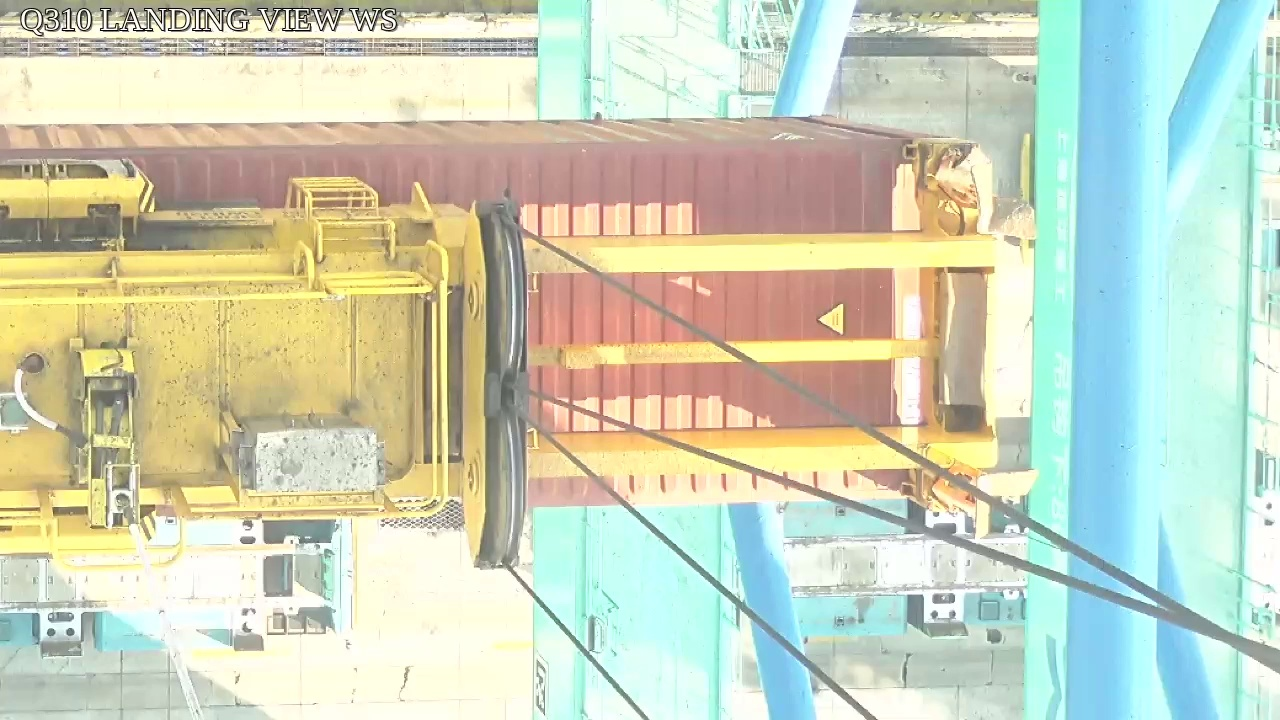right: (455, 200, 532, 575)
